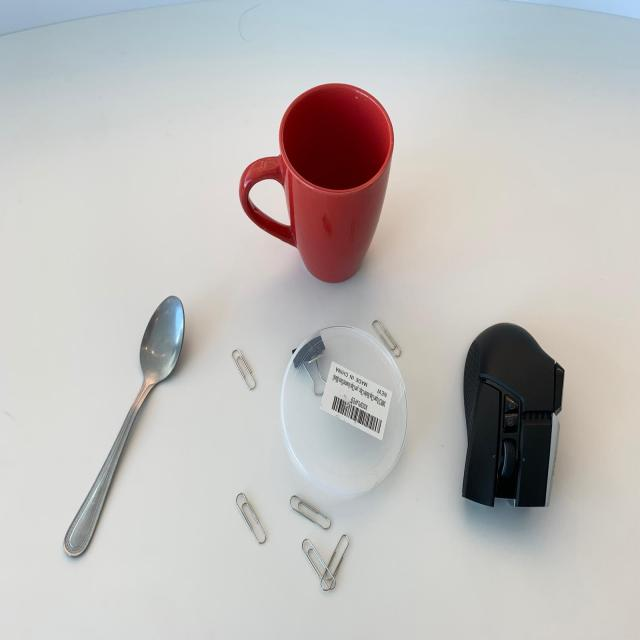Cup: (232, 57, 397, 296)
Mouse: (454, 308, 568, 550)
Spoon: (35, 283, 196, 568)
